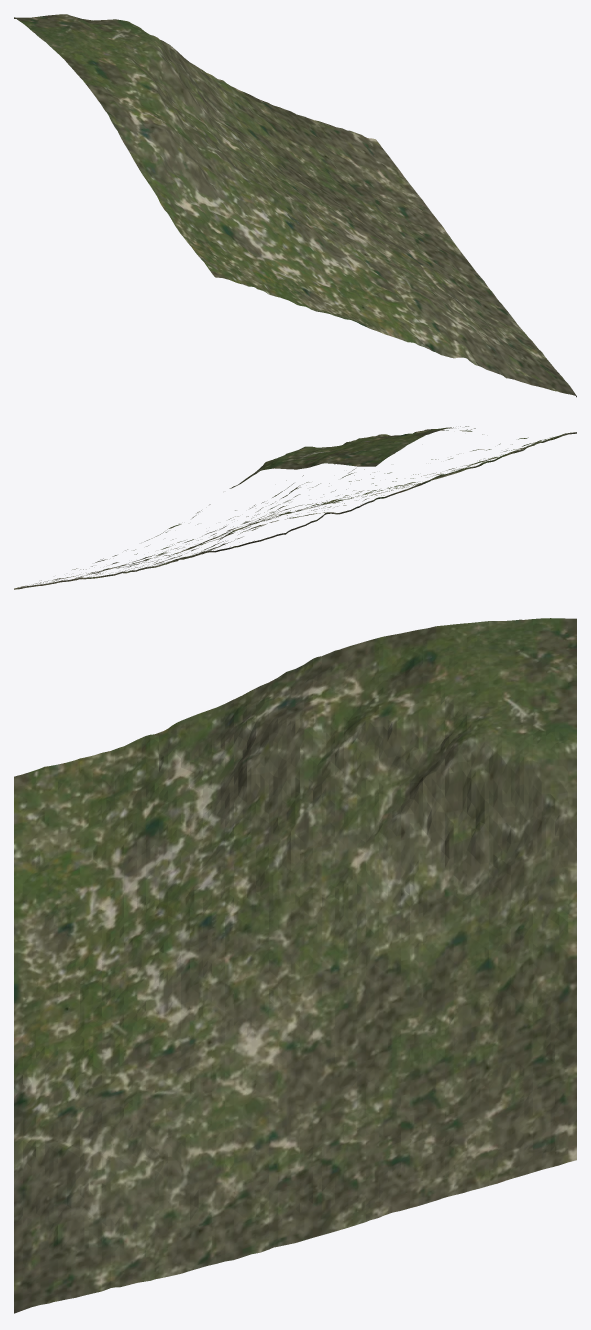
3 renders of one model, top to bottom at view 1: azimuth 30°, elevation 25°; view 2: azimuth 150°, elevation 25°; view 3: azimuth 270°, elevation 25°, orthographic. The views are drawn at different scales.
Bounding box in the file's own units: 250 × 212 × 241.
1 material, 1 textured.
